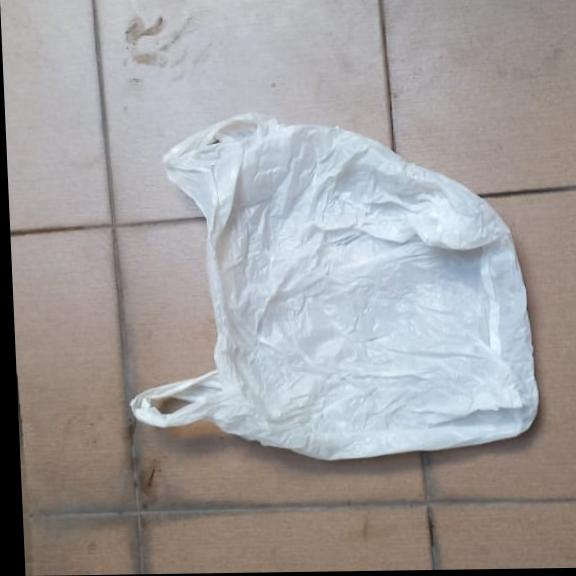Plastik: (116, 106, 542, 464)
